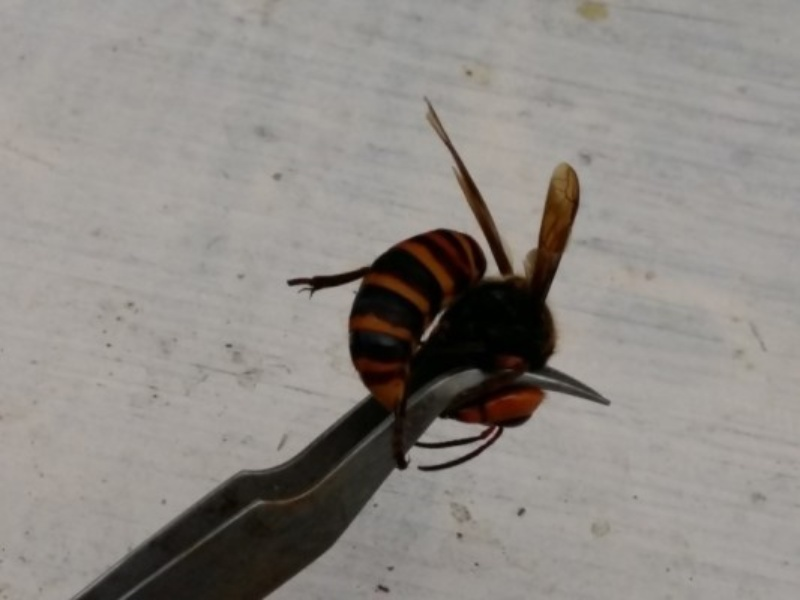asian_giant_hornet: (284, 160, 590, 474)
